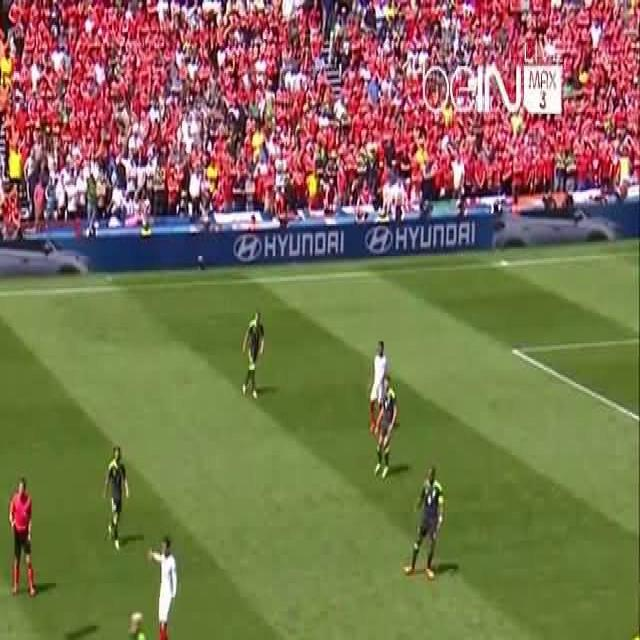player-white: (403, 467, 444, 581), (9, 477, 36, 597), (147, 537, 177, 640), (103, 446, 129, 552), (374, 375, 398, 479), (242, 314, 265, 401), (368, 341, 388, 437), (120, 609, 154, 640)
